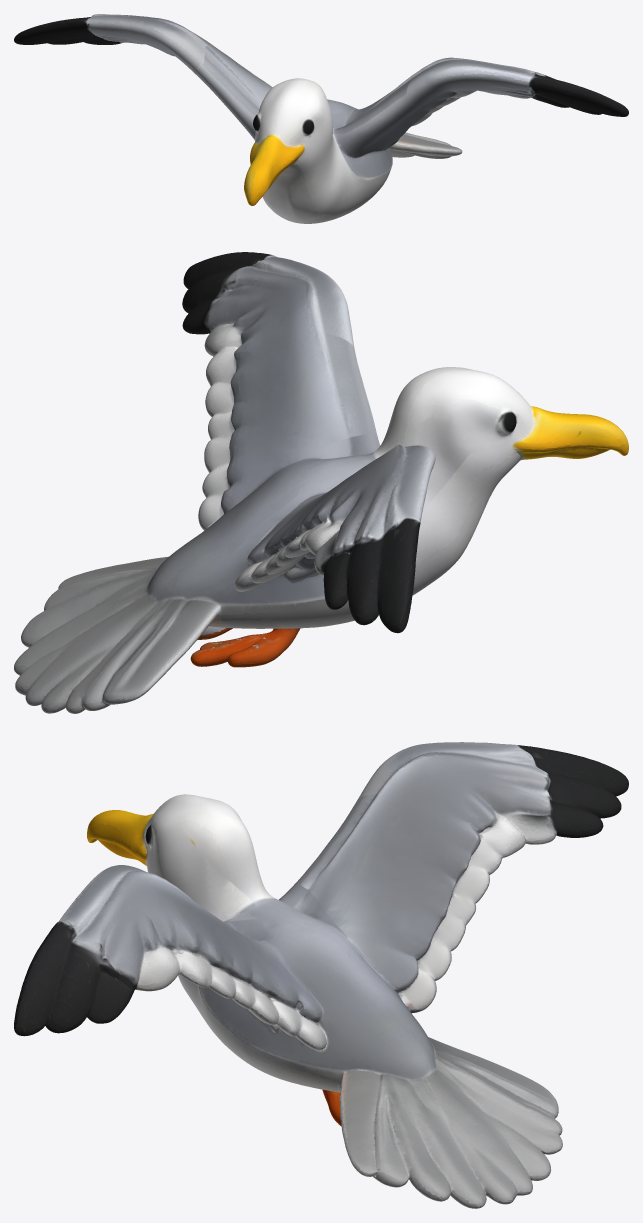
3 renders of one model, top to bottom at view 1: azimuth 30°, elevation 25°; view 2: azimuth 150°, elevation 25°; view 3: azimuth 270°, elevation 25°, orthographic. The views are drawn at different scales.
Parts seen in each view (by area): view 1: geometry_0; view 2: geometry_0; view 3: geometry_0.
Boxes of the visible parts, x1,y1,x2,y2 form: geometry_0: (14,14,628,223); geometry_0: (14,252,628,713); geometry_0: (14,742,628,1208).
Size of the model in its own units: 0.18 by 0.096 by 0.1857.
Materials: 1 (1 with a texture image).
